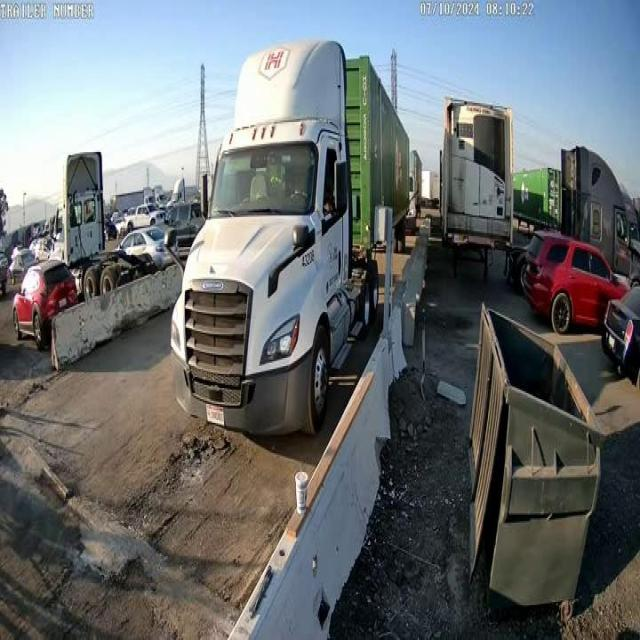TRUCK_OUT: (169, 38, 411, 439)
